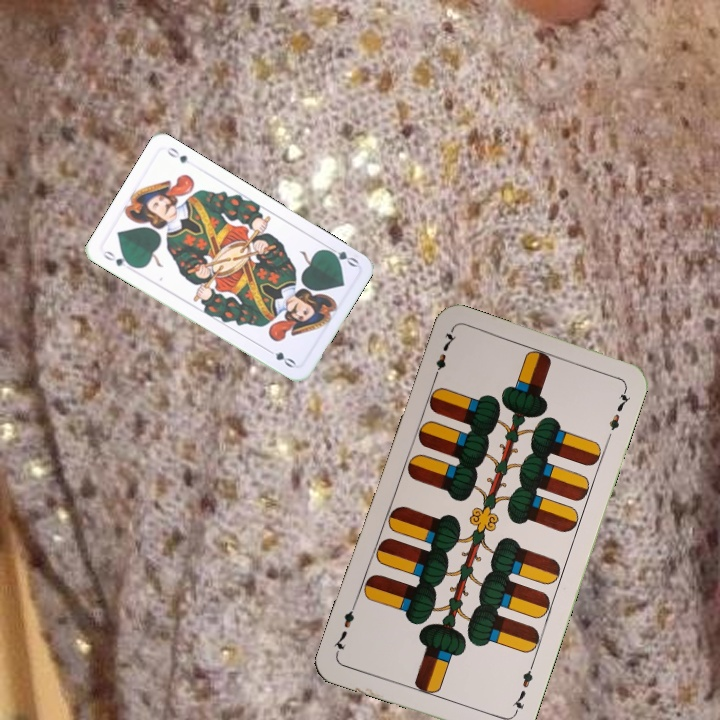E7: (428, 327, 459, 384), (509, 661, 536, 718)
GO: (321, 242, 361, 270), (99, 247, 137, 270)
